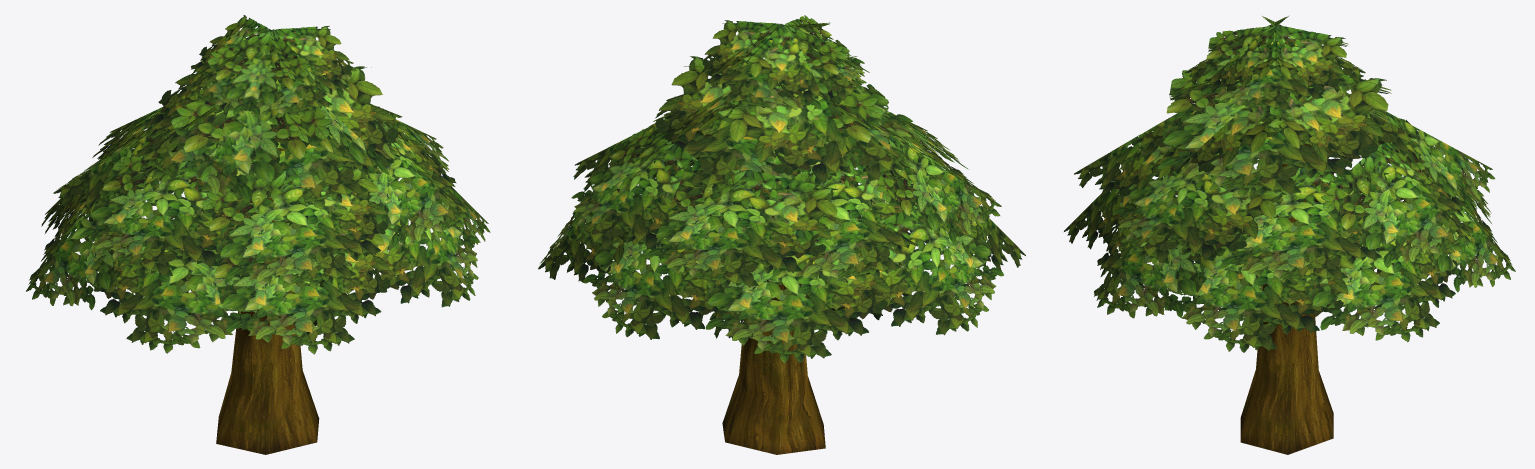
The model's file is obj_macoprtr01.glb.
The picture shows the model from 3 angles, left to right: view 1: azimuth 30°, elevation 25°; view 2: azimuth 150°, elevation 25°; view 3: azimuth 270°, elevation 25°; orthographic projection.
Parts seen in each view (by area): view 1: part_0; view 2: part_0; view 3: part_0.
Boxes of the visible parts, x1,y1,x2,y2 form: part_0: (26,15,490,454); part_0: (538,15,1025,454); part_0: (1064,15,1515,454).
Bounding box in the file's own units: 7.26 × 6.51 × 6.75.
2 materials, 2 textured.
